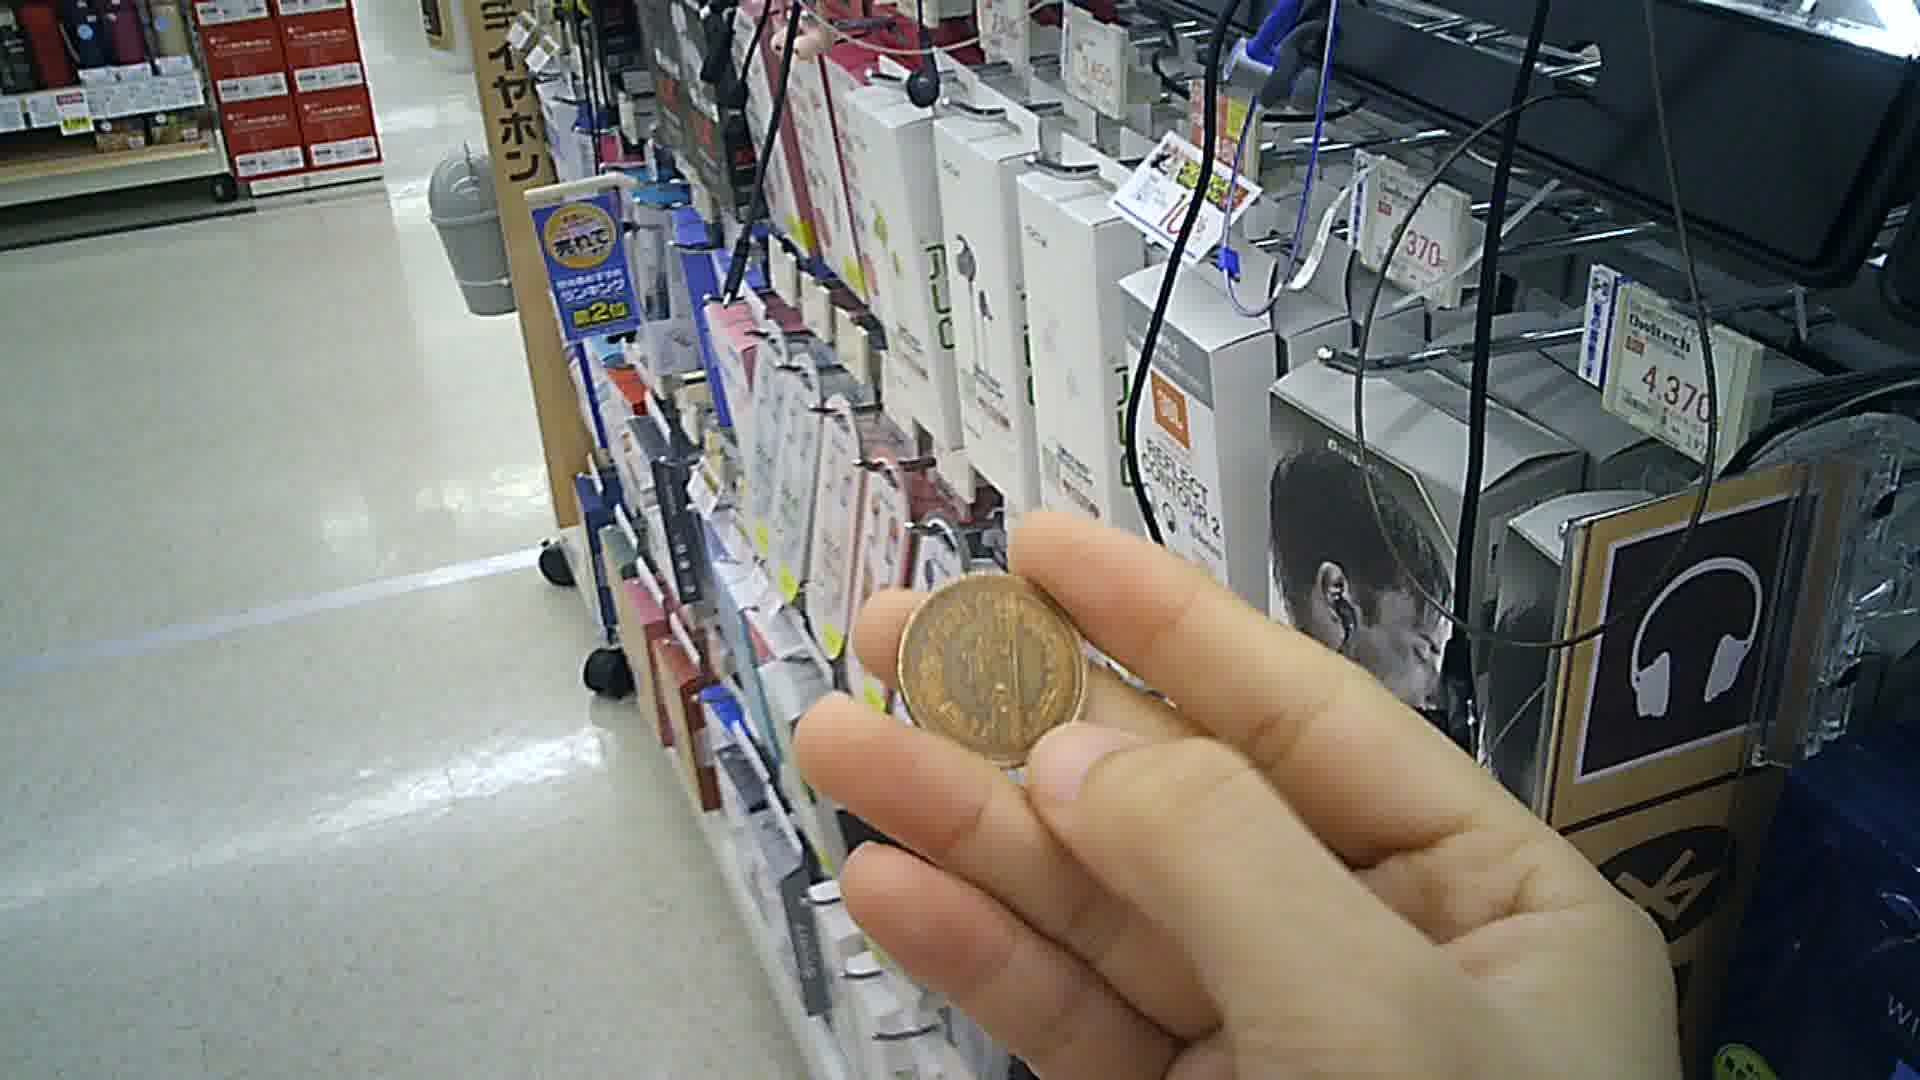10 Yen: (891, 556, 1105, 770)
